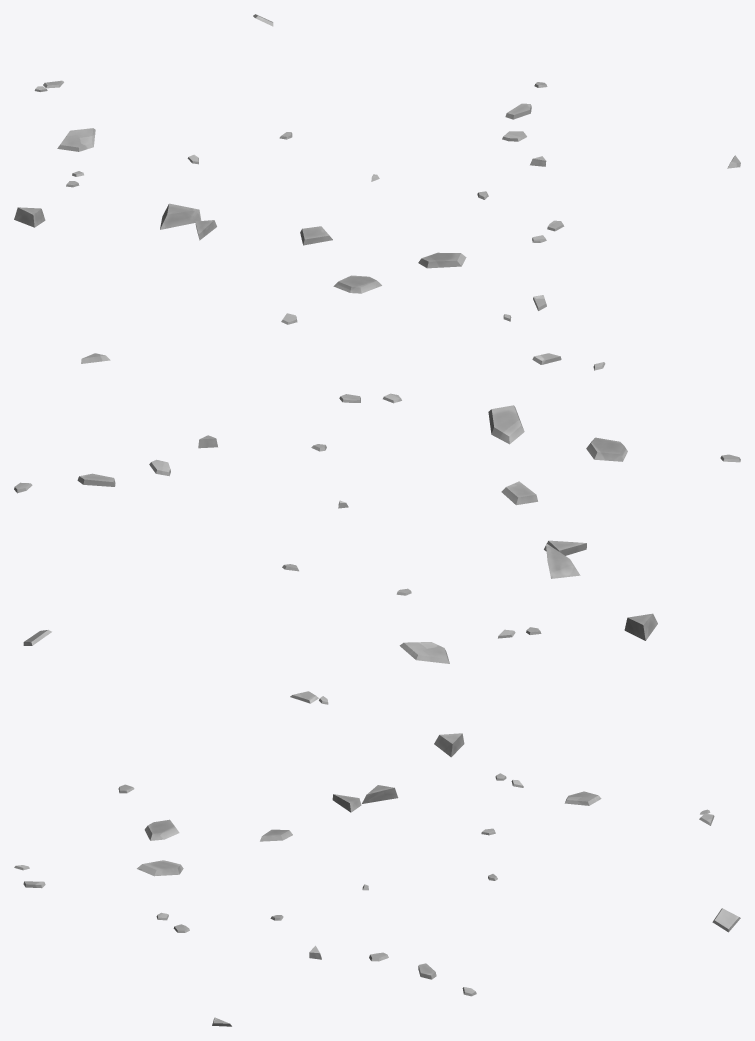
File: sculpted_pebbles_05.glb
The picture shows the model from 3 angles, top to bottom: view 1: azimuth 30°, elevation 25°; view 2: azimuth 150°, elevation 25°; view 3: azimuth 270°, elevation 25°; orthographic projection. The views are drawn at different scales.
Parts seen in each view (by area): view 1: sculpted_pebbles_05; view 2: sculpted_pebbles_05; view 3: sculpted_pebbles_05.
Boxes of the visible parts, bbox=[...] form: sculpted_pebbles_05: bbox=[14, 14, 740, 324]; sculpted_pebbles_05: bbox=[14, 353, 740, 704]; sculpted_pebbles_05: bbox=[14, 733, 740, 1026].
Bounding box in the file's own units: 2.1 × 0.056 × 2.25.
1 material, 1 textured.
